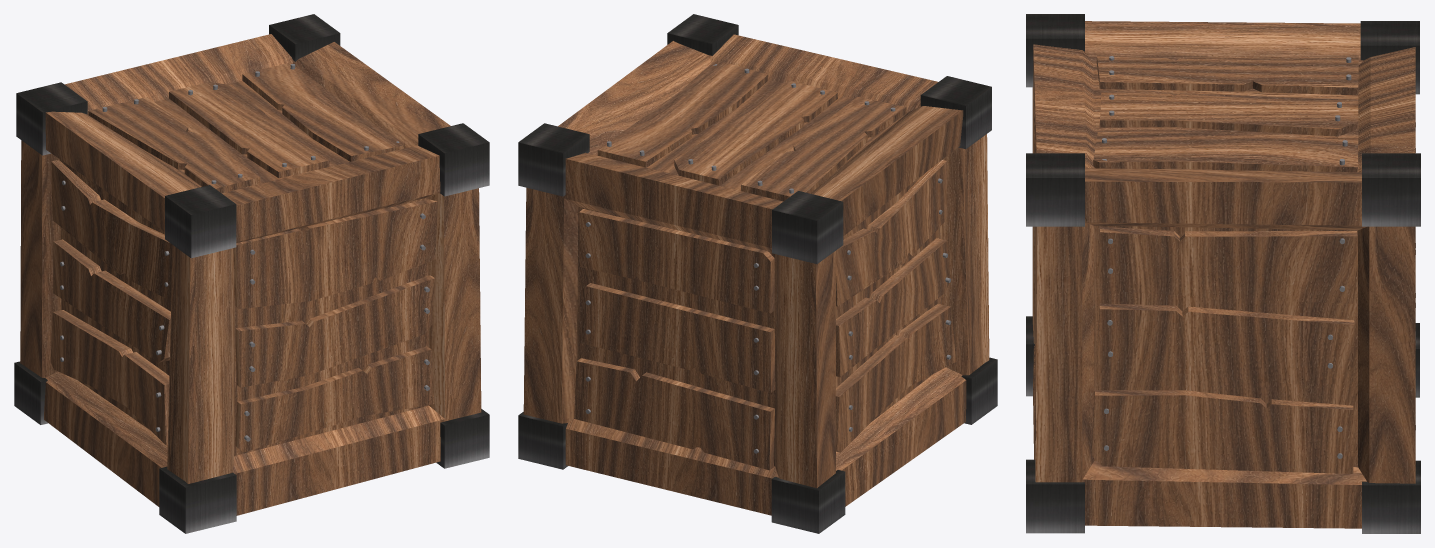
File: CajaMovil.glb
3 renders of one model, left to right at view 1: azimuth 30°, elevation 25°; view 2: azimuth 150°, elevation 25°; view 3: azimuth 270°, elevation 25°, orthographic. The views are drawn at different scales.
Parts seen in each view (by area): view 1: Cubo, Cubo.003, Cubo.008, Cubo.004, Cubo.002, Cubo.007, Cubo.005, Cubo.009; view 2: Cubo, Cubo.002, Cubo.005, Cubo.009, Cubo.003, Cubo.006, Cubo.004, Cubo.008; view 3: Cubo, Cubo.004, Cubo.005, Cubo.007, Cubo.006, Cubo.003, Cubo.002, Cubo.008.
Boxes of the visible parts, x1,y1,x2,y2 form: Cubo: (20, 34, 481, 515); Cubo.003: (165, 185, 236, 258); Cubo.008: (159, 466, 236, 533); Cubo.004: (418, 123, 489, 196); Cubo.002: (16, 82, 87, 155); Cubo.007: (436, 409, 489, 468); Cubo.005: (269, 14, 340, 61); Cubo.009: (14, 361, 47, 424); Cubo: (523, 34, 989, 515); Cubo.002: (772, 191, 843, 263); Cubo.005: (518, 123, 589, 196); Cubo.009: (771, 470, 845, 533); Cubo.003: (920, 76, 991, 149); Cubo.006: (518, 412, 567, 469); Cubo.004: (667, 14, 738, 55); Cubo.008: (961, 357, 997, 424); Cubo: (1032, 21, 1415, 528); Cubo.004: (1026, 153, 1084, 226); Cubo.005: (1362, 153, 1420, 226); Cubo.007: (1026, 459, 1084, 533); Cubo.006: (1362, 460, 1420, 533); Cubo.003: (1026, 14, 1084, 87); Cubo.002: (1360, 21, 1419, 94); Cubo.008: (1026, 316, 1034, 396).
Bounding box in the file's own units: 2.1 × 2.11 × 2.1.
Materials: 81 (9 with a texture image).
